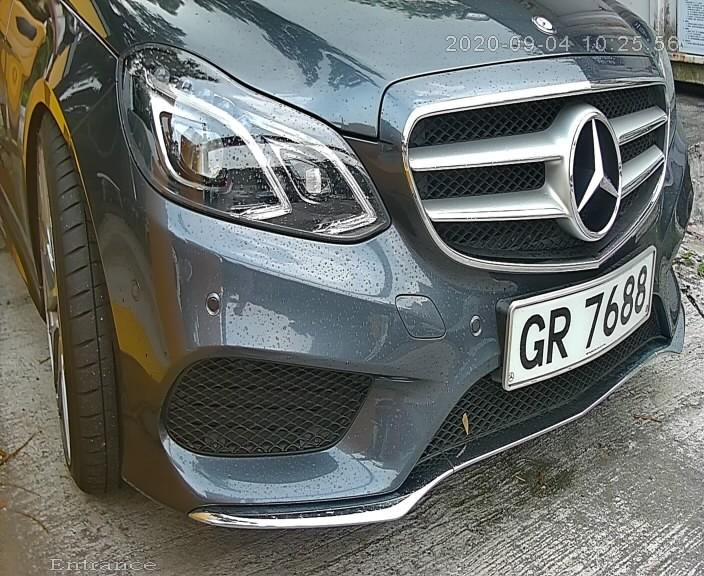License Plate: (492, 231, 662, 398)
